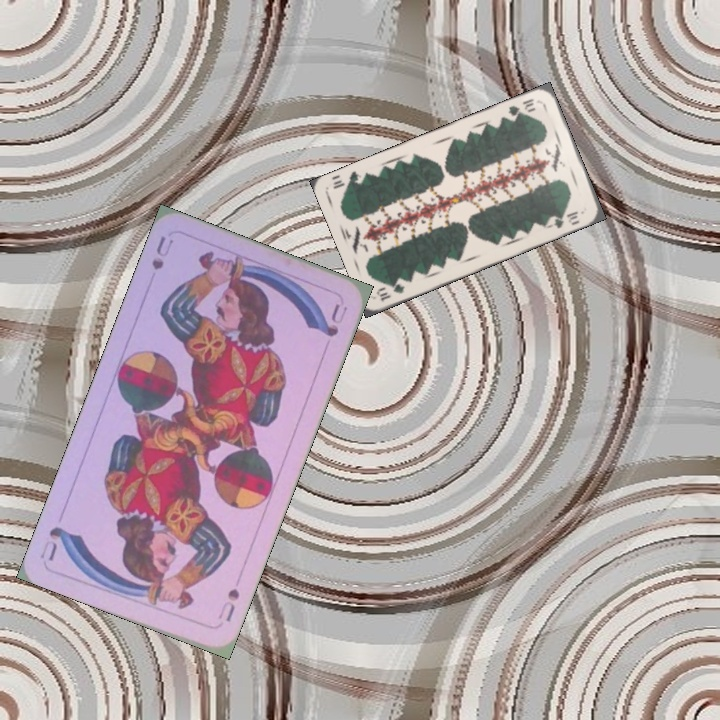G10: (503, 94, 538, 123), (372, 279, 407, 304)
SU: (147, 231, 176, 272), (213, 584, 242, 625)
